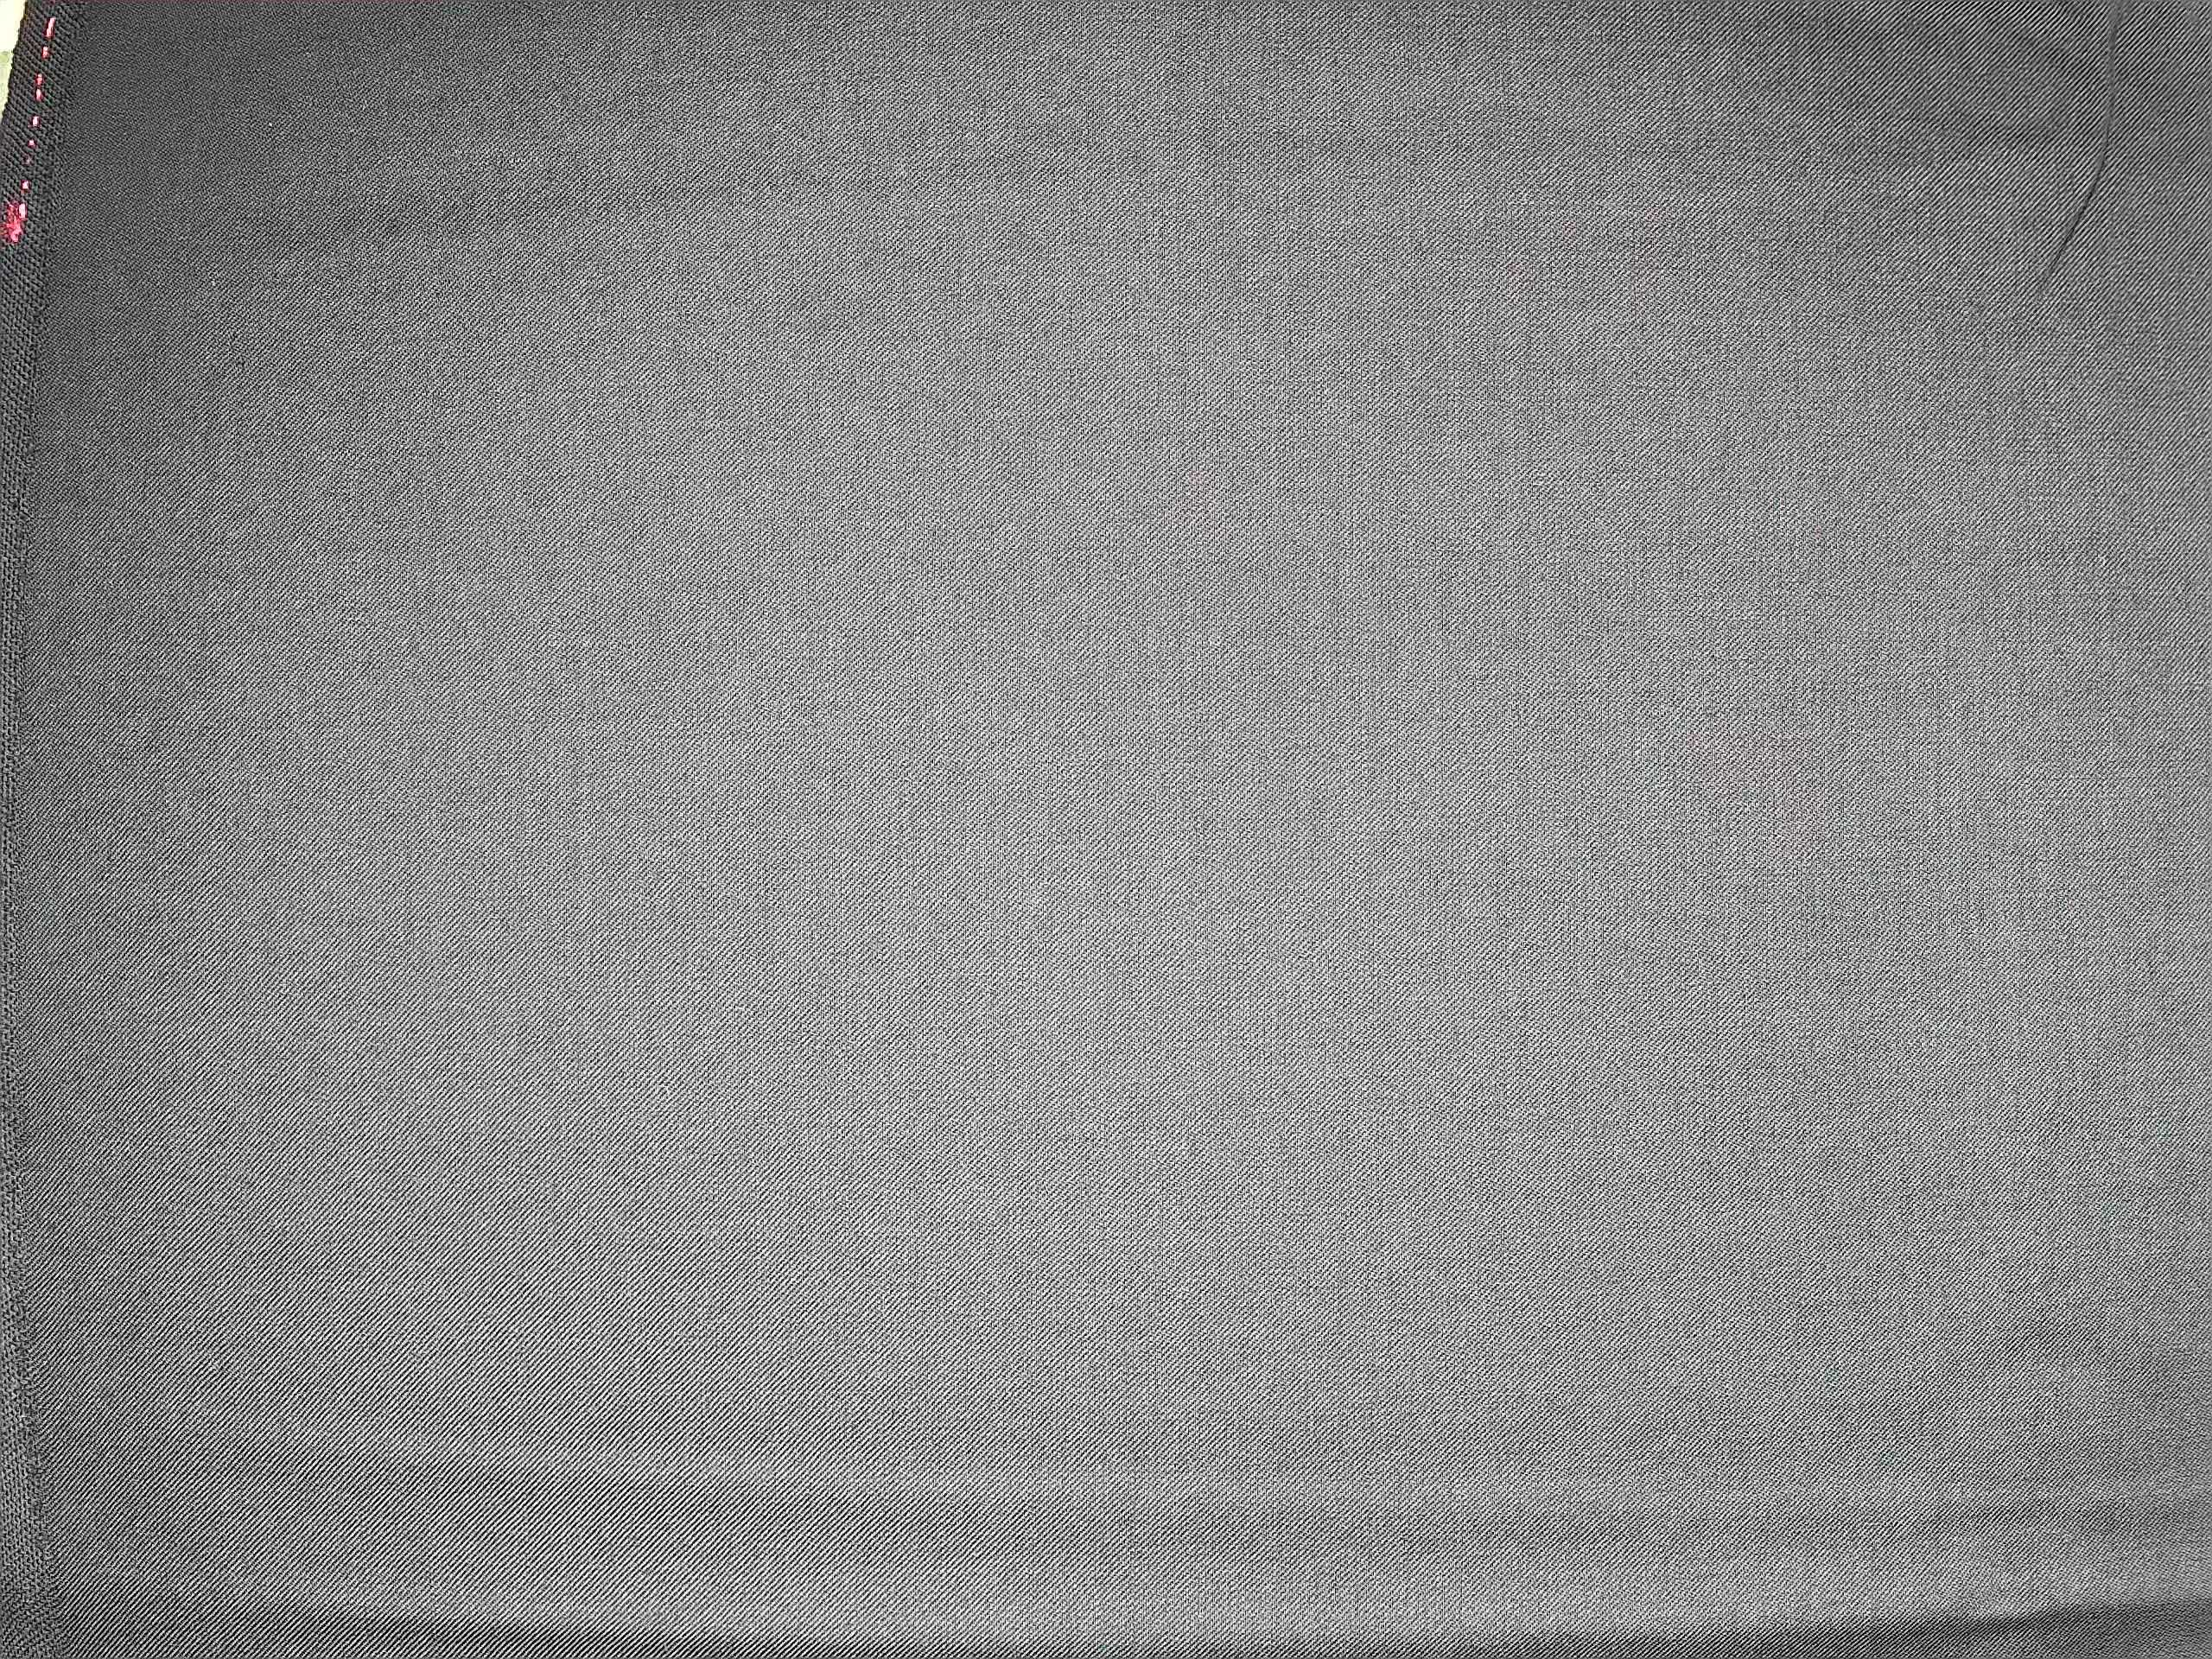rubbing-hole: (190, 249, 263, 394)
